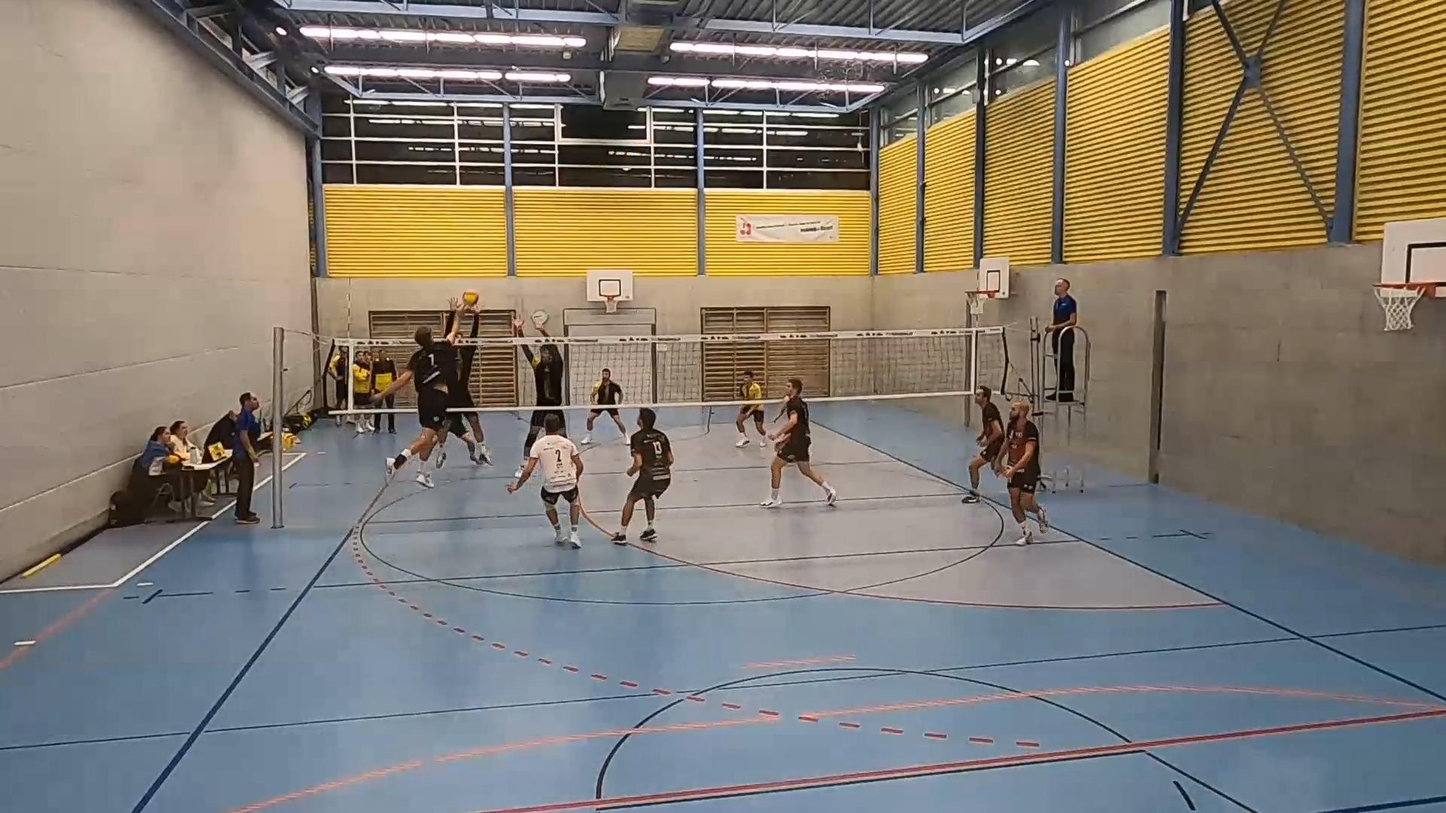Attack: (378, 306, 485, 488)
Block: (510, 314, 571, 471), (441, 294, 494, 470)
Player: (507, 414, 583, 548), (761, 378, 836, 507), (612, 408, 673, 544), (514, 343, 565, 476), (1002, 400, 1048, 544), (962, 385, 1005, 503), (581, 367, 626, 445), (735, 370, 767, 447)
ball: (461, 289, 483, 312)
